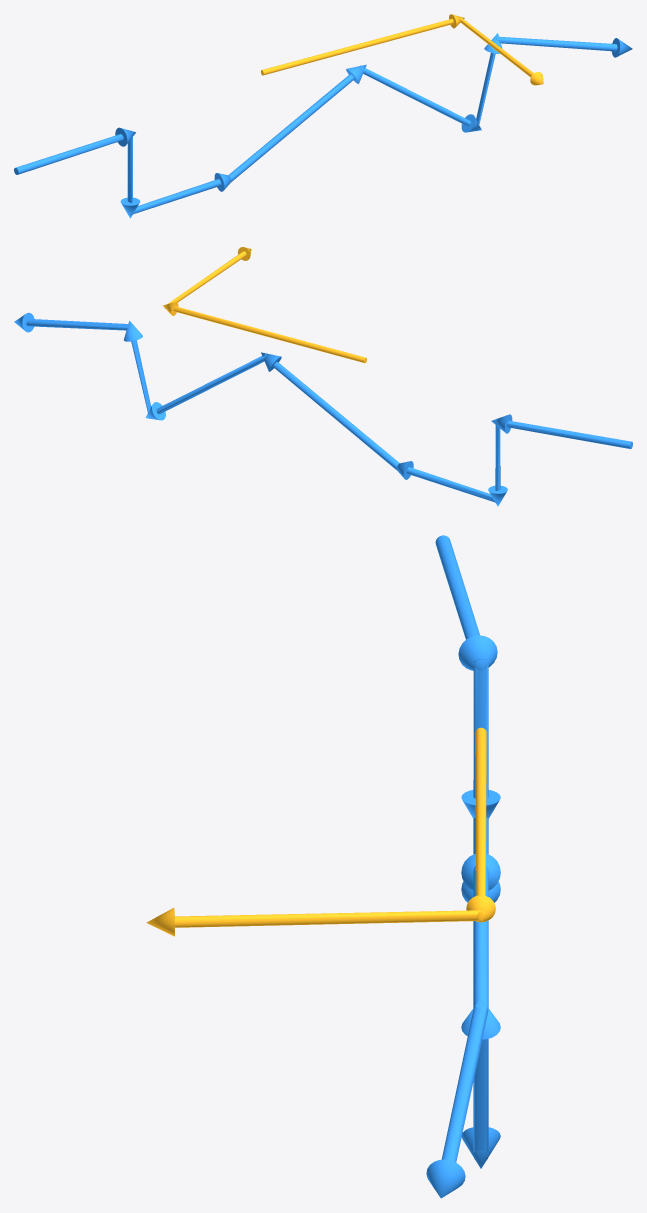
The model's file is oil_water_separator_flow.glb.
3 renders of one model, top to bottom at view 1: azimuth 30°, elevation 25°; view 2: azimuth 150°, elevation 25°; view 3: azimuth 270°, elevation 25°, orthographic. The views are drawn at different scales.
Parts seen in each view (by area): view 1: oily_water, oil; view 2: oily_water, oil; view 3: oily_water, oil.
Boxes of the visible parts, x1,y1,x2,y2 form: oily_water: (14,33,632,218); oil: (261,14,543,85); oily_water: (14,312,632,506); oil: (162,247,366,363); oily_water: (426,535,500,1198); oil: (146,727,495,936).
Size of the model in its own units: 3.74 by 0.7279 by 0.932.
